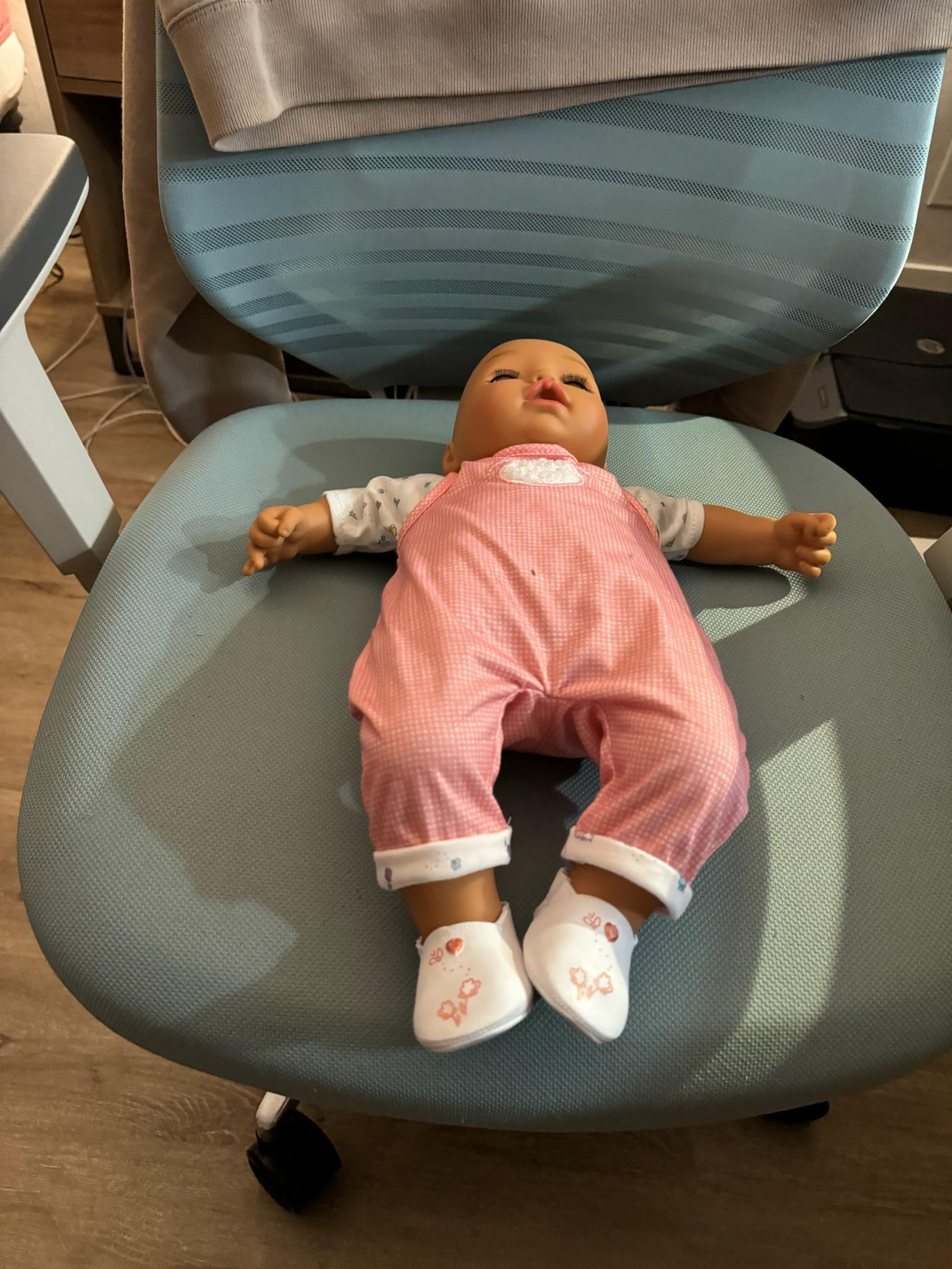baby: (238, 330, 845, 1088)
